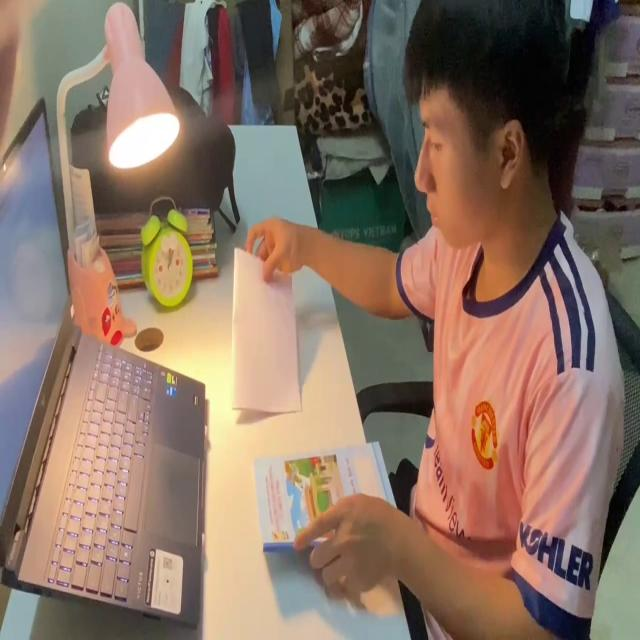book: (254, 439, 398, 558), (232, 242, 302, 420)
laptop: (0, 88, 208, 632)
student: (245, 0, 625, 640)
